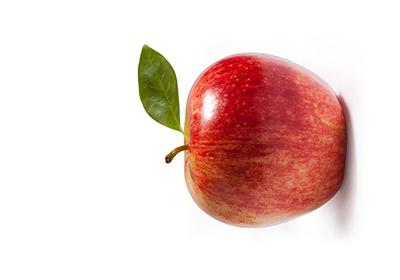apple: (0, 0, 400, 280)
